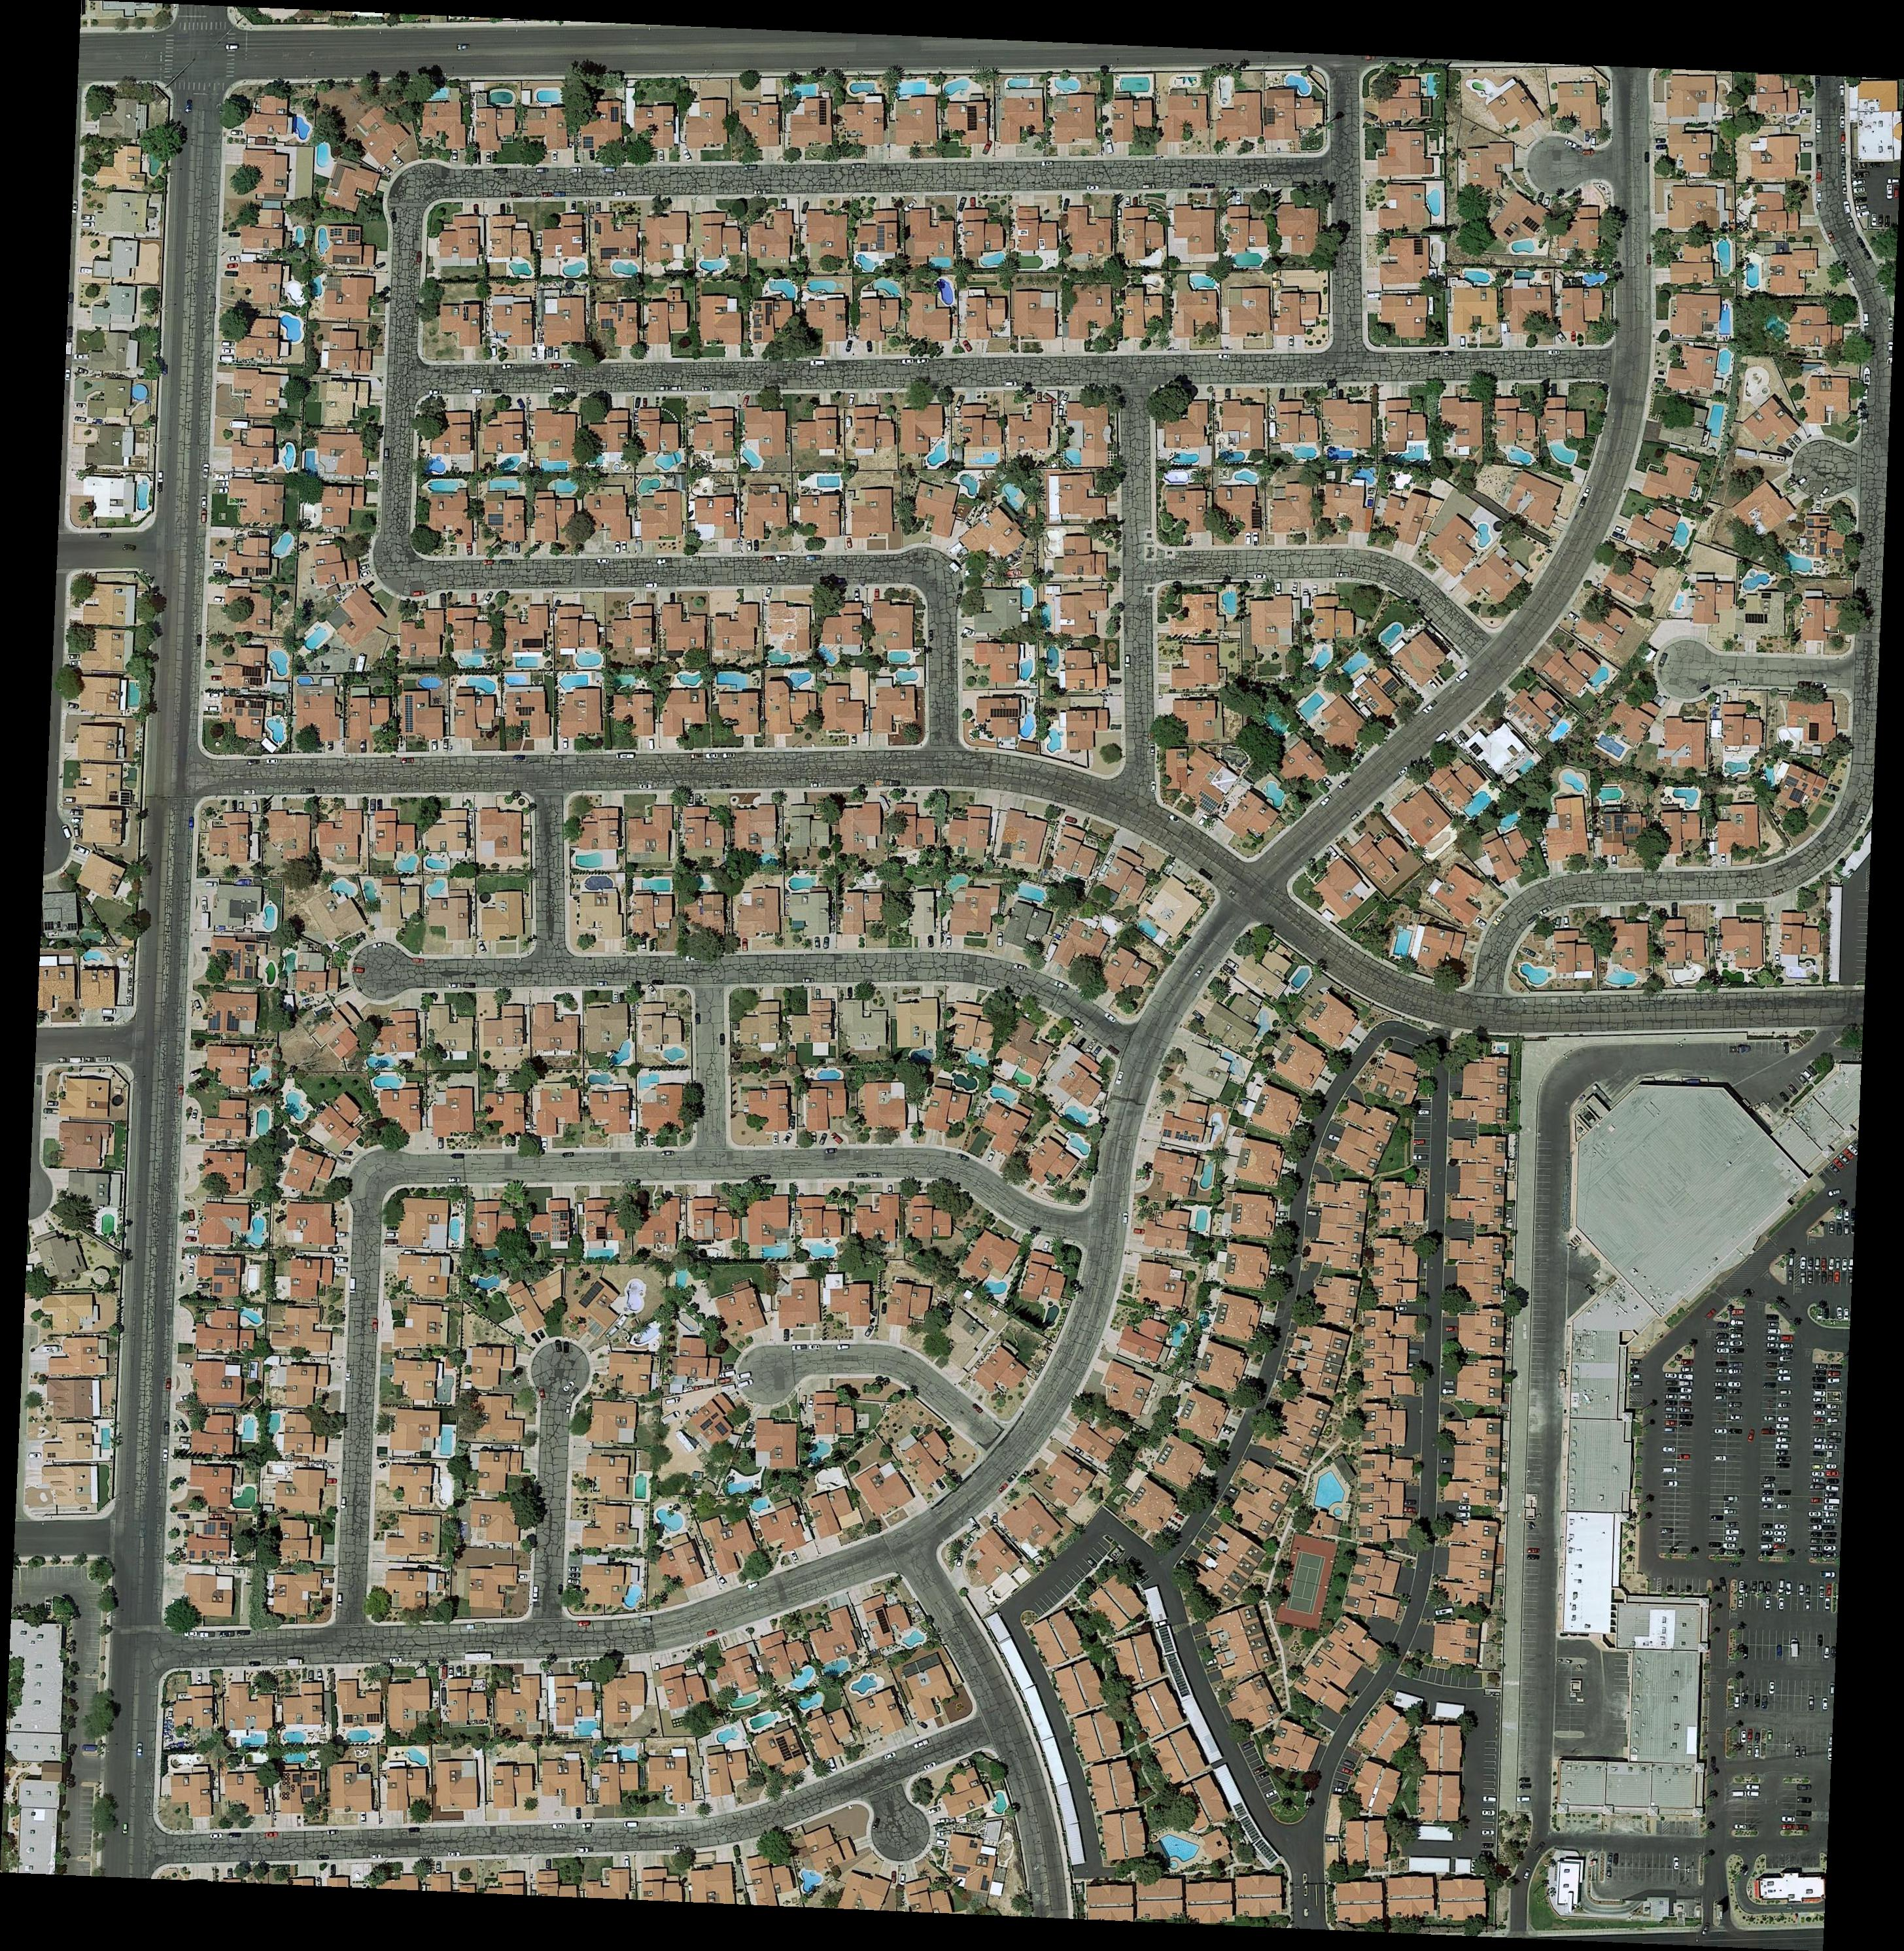ship: (1862, 366, 1873, 387)
